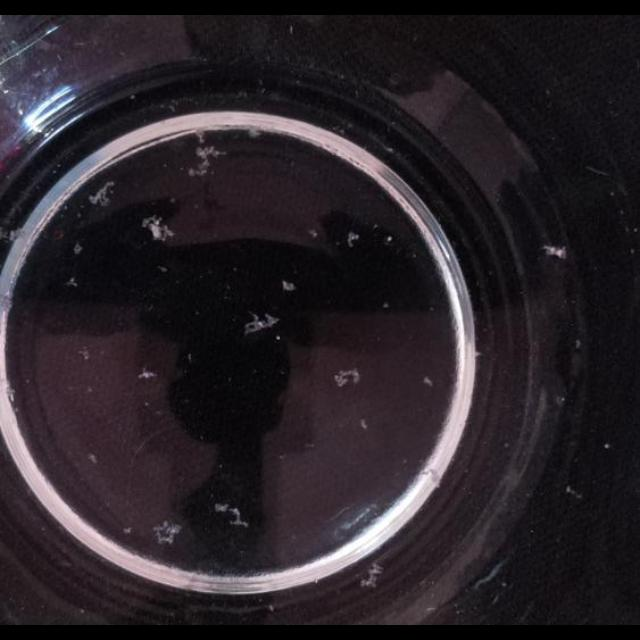Fibre: (187, 140, 227, 178), (152, 520, 184, 546), (142, 215, 174, 241), (88, 182, 116, 208), (359, 562, 383, 590), (334, 367, 361, 387), (347, 230, 361, 248), (78, 347, 90, 361)
microbeads: (543, 244, 567, 260), (138, 366, 156, 379), (566, 485, 582, 499), (282, 280, 296, 292), (72, 242, 84, 254), (422, 377, 433, 388), (66, 278, 78, 288), (88, 452, 98, 463), (359, 418, 368, 430), (308, 229, 318, 239), (384, 234, 394, 243), (158, 265, 168, 273), (574, 339, 582, 349), (123, 527, 133, 535), (382, 301, 390, 309), (475, 351, 483, 359), (187, 353, 193, 363), (604, 442, 610, 450)
